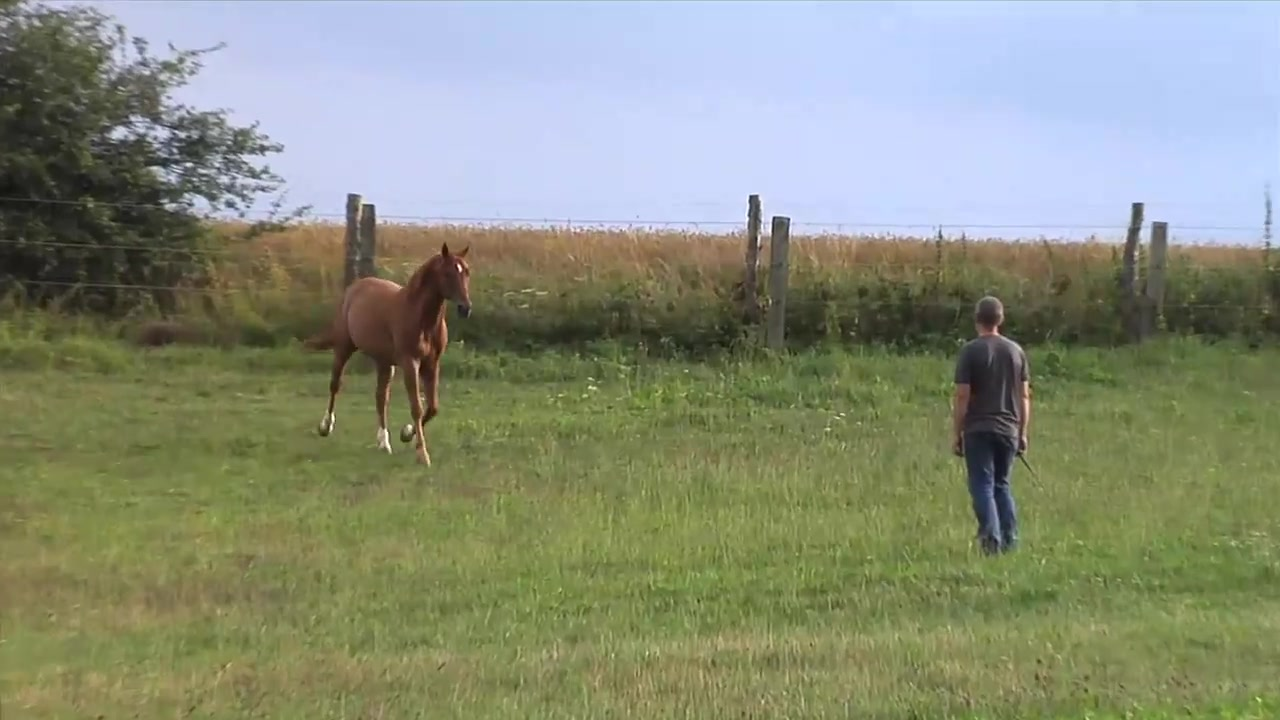horse: (305, 242, 479, 470)
